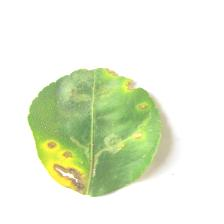canker: (14, 57, 172, 196)
